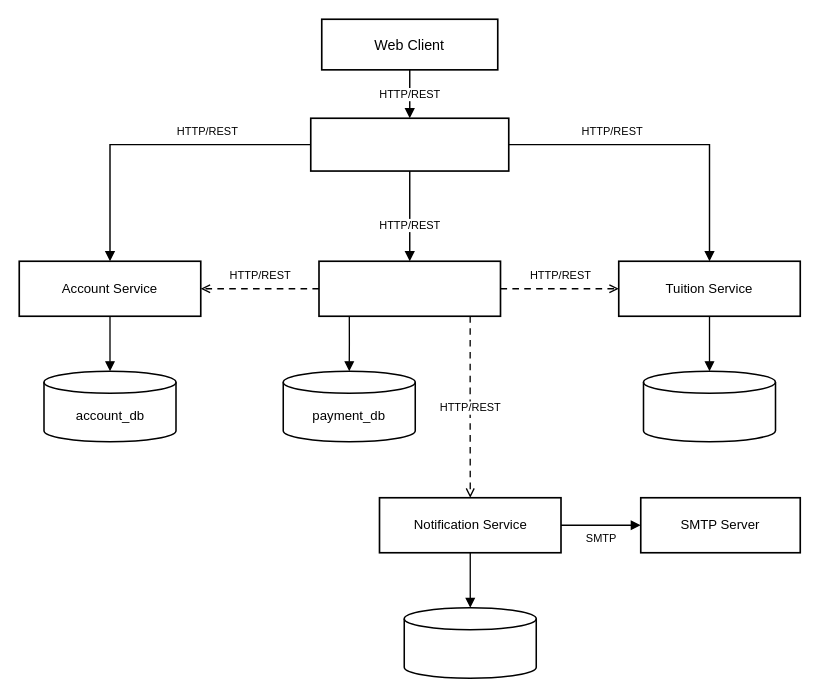
The diagram is 821 pixels wide and 699 high, and some of its shapes have lost their labels. Each missing label, with the box of its shape:
API Gateway: (309, 117, 509, 171)
notification_db: (403, 606, 536, 678)
Payment Service: (318, 260, 501, 317)
tuition_db: (642, 370, 776, 442)
